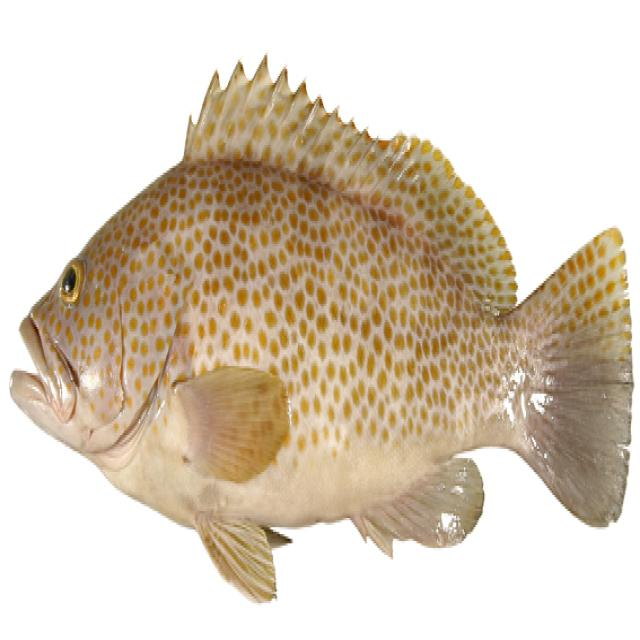ikan: (4, 20, 636, 612)
